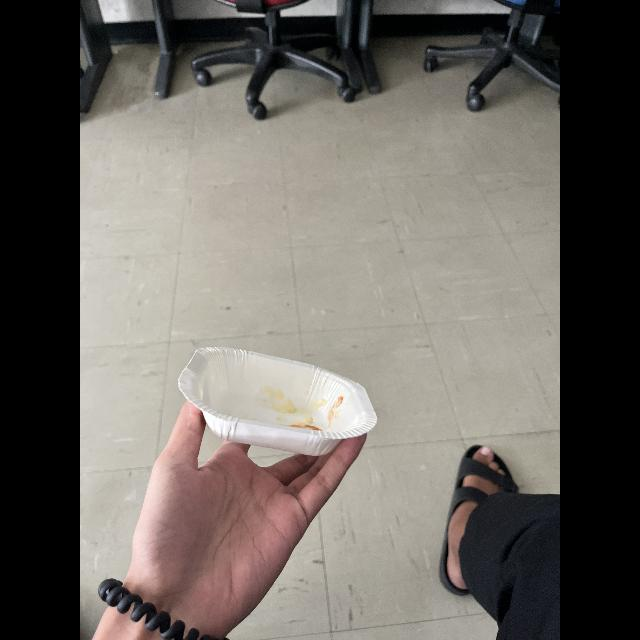cardboard_bowl: (176, 338, 377, 458)
